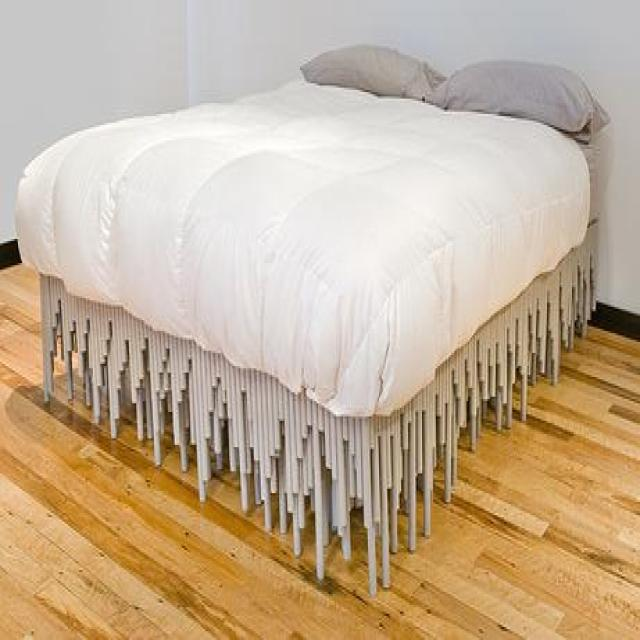bed: (13, 40, 610, 592)
